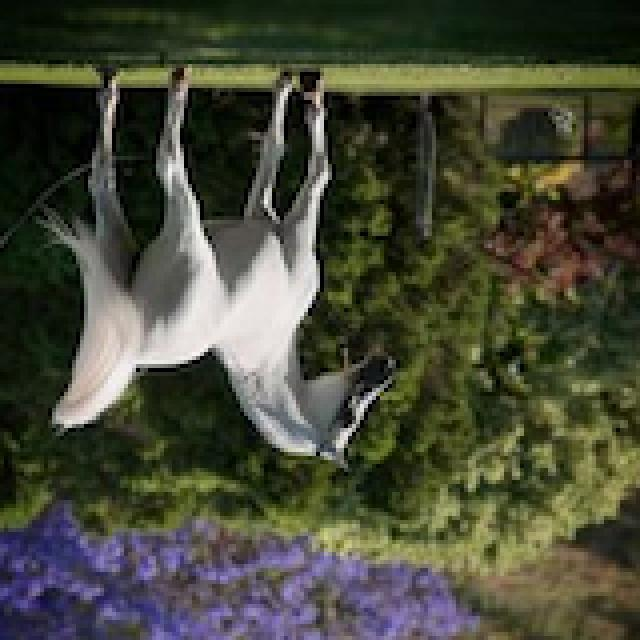Horse: (32, 60, 408, 476)
